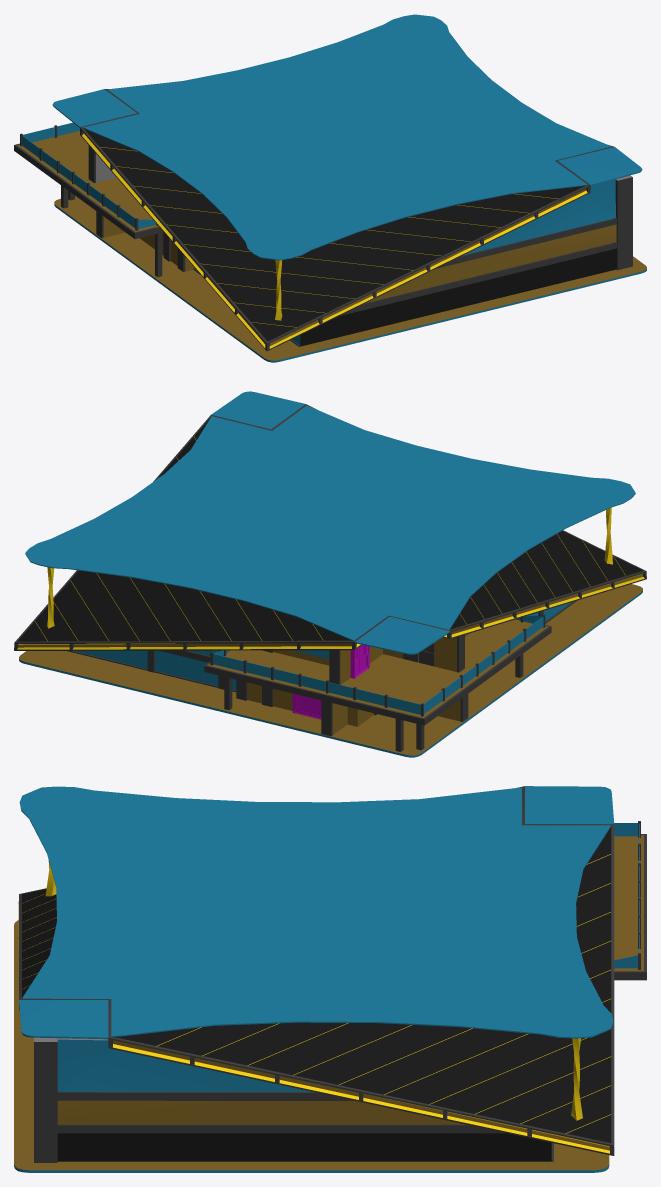
Rendered from SM_MK10_Building_Middle_001.fbx.
The picture shows the model from 3 angles, top to bottom: view 1: azimuth 30°, elevation 25°; view 2: azimuth 150°, elevation 25°; view 3: azimuth 270°, elevation 25°; orthographic projection. The views are drawn at different scales.
Visible parts, largest first — view 1: SM_MK10_Building_Middle_001; view 2: SM_MK10_Building_Middle_001; view 3: SM_MK10_Building_Middle_001.
Part boxes in pixels (x1,y1,x2,y2): SM_MK10_Building_Middle_001: [14, 14, 646, 362]; SM_MK10_Building_Middle_001: [14, 391, 646, 757]; SM_MK10_Building_Middle_001: [14, 786, 646, 1172].
Bounding box in the file's own units: 2117 × 500 × 2127.
